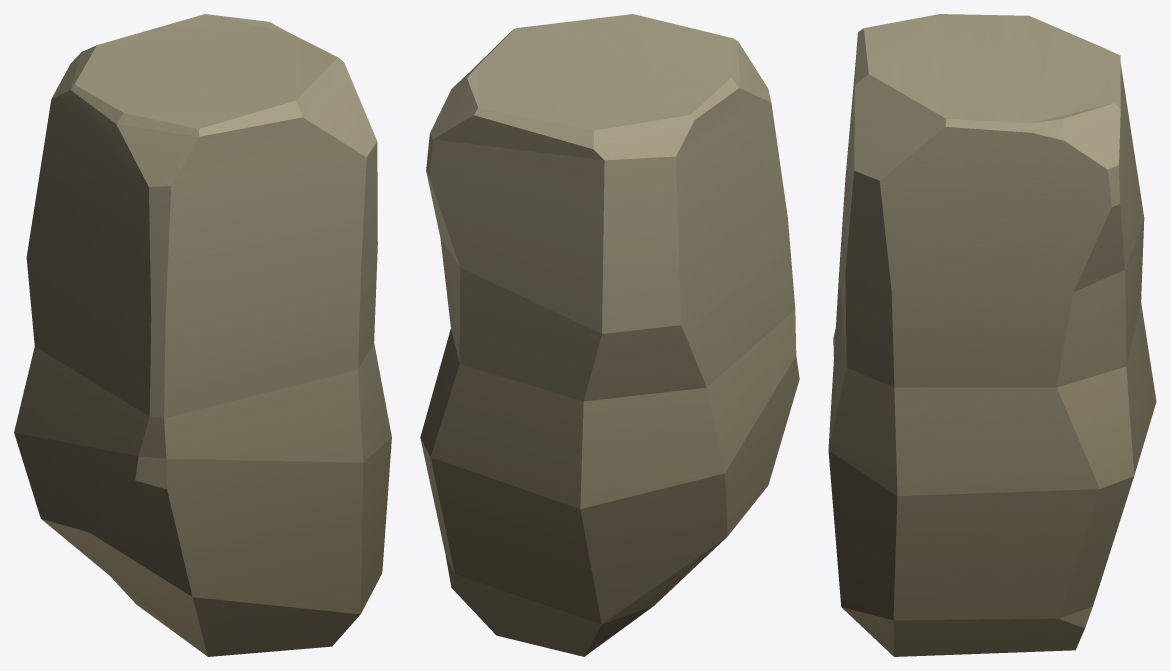
The model's file is Rock_09.fbx.
The picture shows the model from 3 angles, left to right: view 1: azimuth 30°, elevation 25°; view 2: azimuth 150°, elevation 25°; view 3: azimuth 270°, elevation 25°; orthographic projection. The views are drawn at different scales.
Parts seen in each view (by area): view 1: Rock_09; view 2: Rock_09; view 3: Rock_09.
Part boxes in pixels (left/top/right/bottom): Rock_09: left=14, top=14, right=391, bottom=656; Rock_09: left=420, top=14, right=799, bottom=656; Rock_09: left=828, top=14, right=1156, bottom=656.
Bounding box in the file's own units: 316 × 575 × 305.
